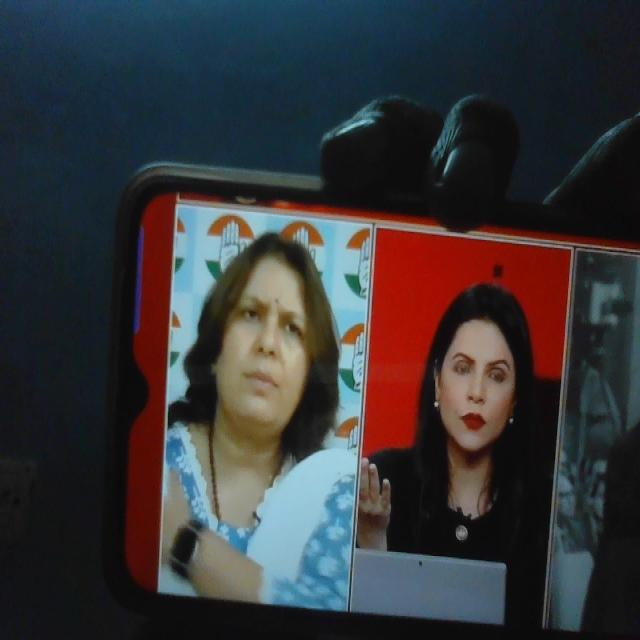fake: (206, 213, 328, 444), (422, 264, 536, 479)
